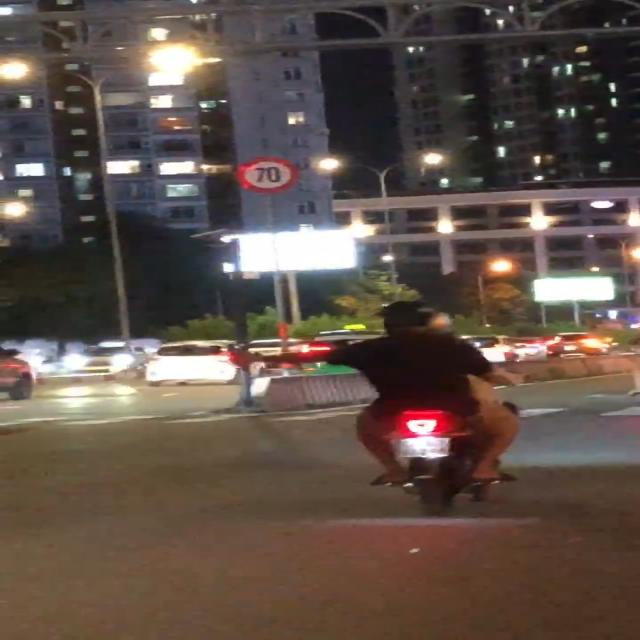Bien bao toc do toi da cho phep: (234, 152, 305, 194)
